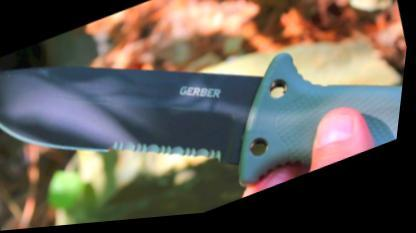knife: (0, 0, 350, 231)
